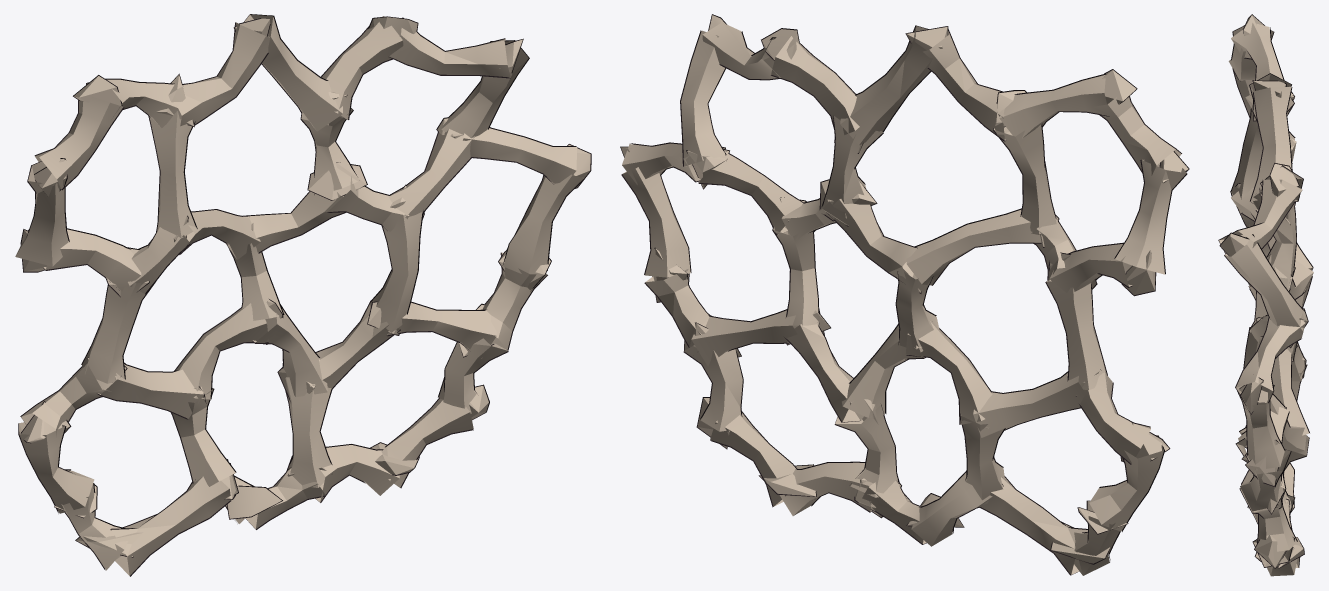
The model's file is SM_Web_Lattice_01.fbx.
3 views of the same model, side by side, from view 1: azimuth 30°, elevation 25°; view 2: azimuth 150°, elevation 25°; view 3: azimuth 270°, elevation 25° (orthographic). The views are drawn at different scales.
Visible parts, largest first — view 1: SM_Web_Lattice_01; view 2: SM_Web_Lattice_01; view 3: SM_Web_Lattice_01.
Boxes of the visible parts, x1=… form: SM_Web_Lattice_01: x1=15, y1=14, x2=591, y2=576; SM_Web_Lattice_01: x1=620, y1=14, x2=1189, y2=575; SM_Web_Lattice_01: x1=1218, y1=14, x2=1313, y2=576.
Bounding box in the file's own units: 118 × 102 × 20.2.
